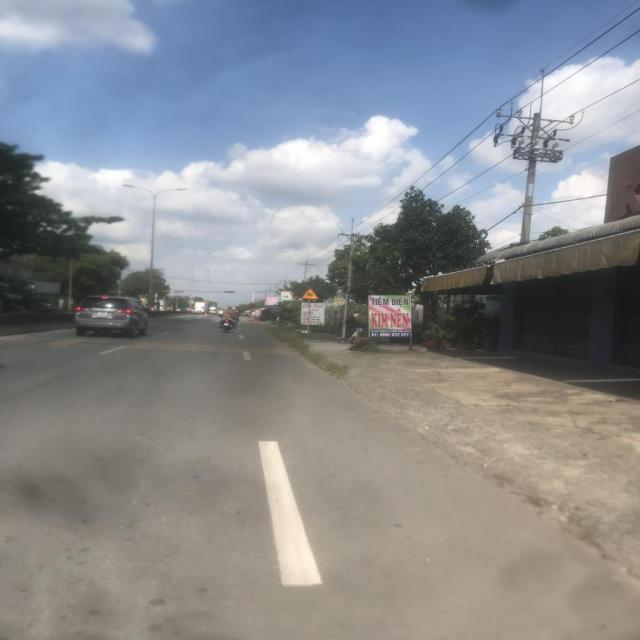cam_xe_di_nguoc_chieu: (204, 301, 208, 304)
chu_y_tre_em: (301, 287, 319, 299)
huong_phai_di_vuot_chuong_ngai_vat_phai: (204, 304, 208, 306)
